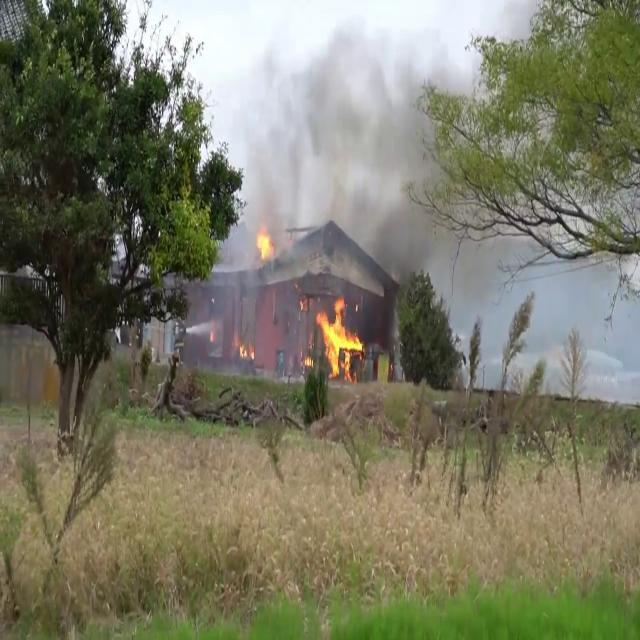Fire: (312, 290, 366, 378), (254, 221, 276, 263), (236, 338, 256, 366)
Smoke: (236, 5, 442, 279)
